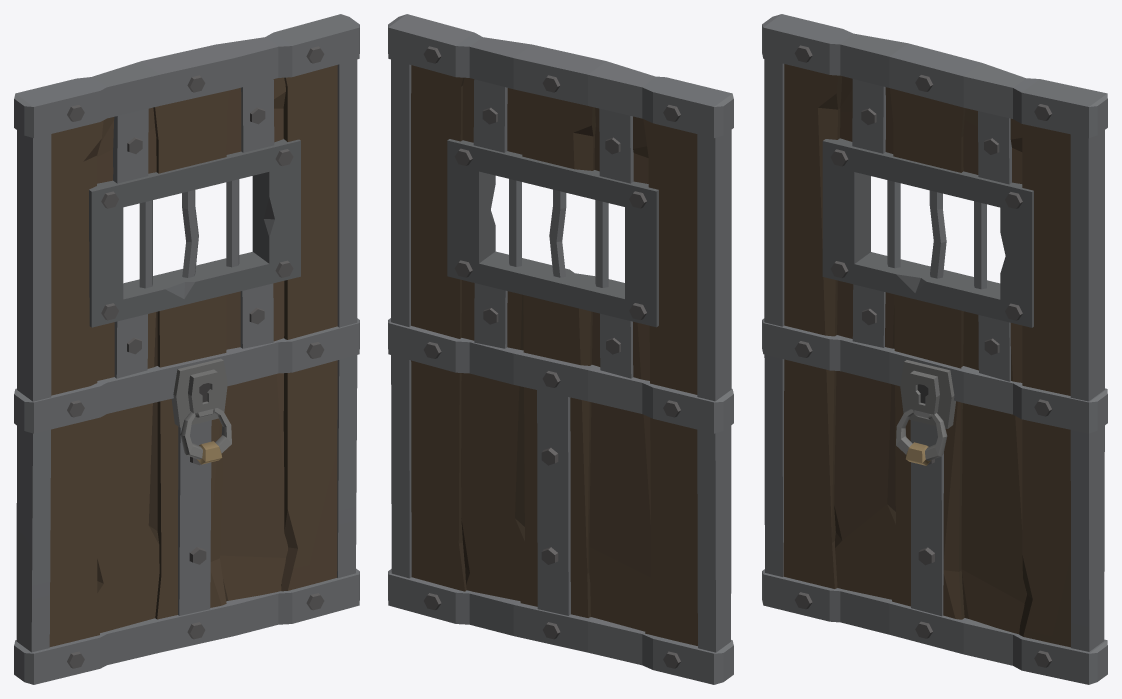
File: SM_Env_Door_05.glb
3 renders of one model, left to right at view 1: azimuth 30°, elevation 25°; view 2: azimuth 150°, elevation 25°; view 3: azimuth 330°, elevation 25°, orthographic.
Parts seen in each view (by area): view 1: SM_Env_Door_05; view 2: SM_Env_Door_05; view 3: SM_Env_Door_05.
Part boxes in pixels (bbox=[...]): SM_Env_Door_05: bbox=[14, 14, 359, 684]; SM_Env_Door_05: bbox=[388, 14, 733, 684]; SM_Env_Door_05: bbox=[762, 14, 1107, 684].
Size of the model in its own units: 0.0132 by 0.0218 by 0.00241.
Materials: 1 (1 with a texture image).
